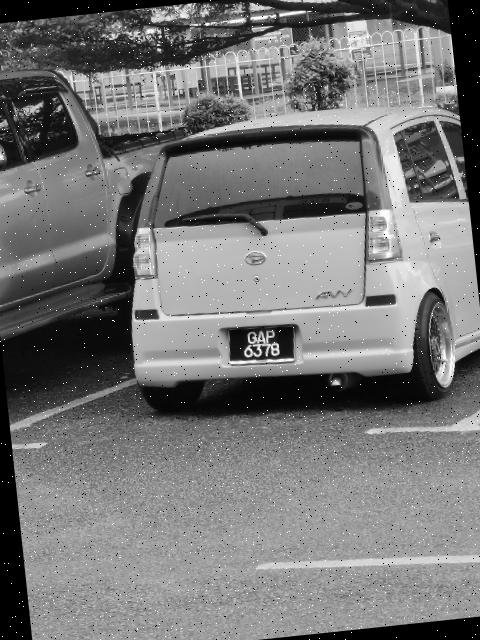License_Plate: (227, 324, 299, 370)
car: (98, 89, 480, 426), (1, 43, 254, 379)
